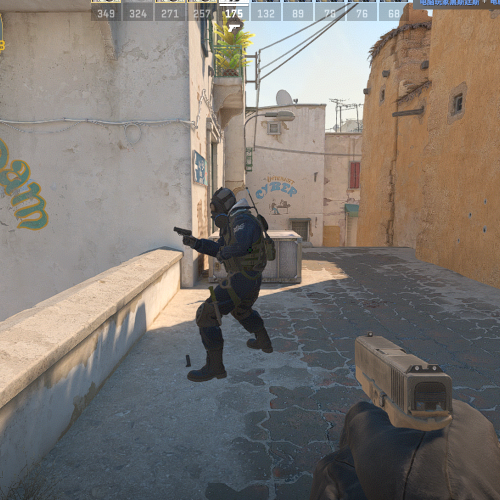ct_body: (187, 188, 273, 384)
ct_head: (210, 188, 235, 220)
